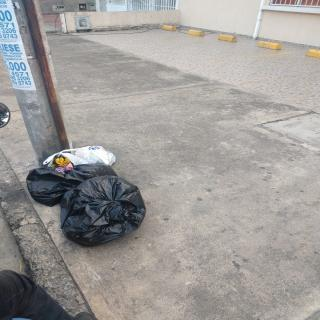Garbage: (55, 173, 151, 247), (25, 164, 124, 206), (42, 142, 122, 170)
